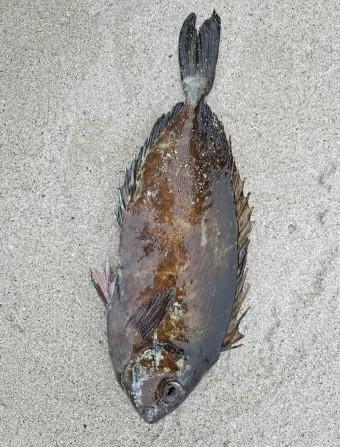fish: (91, 11, 251, 422)
